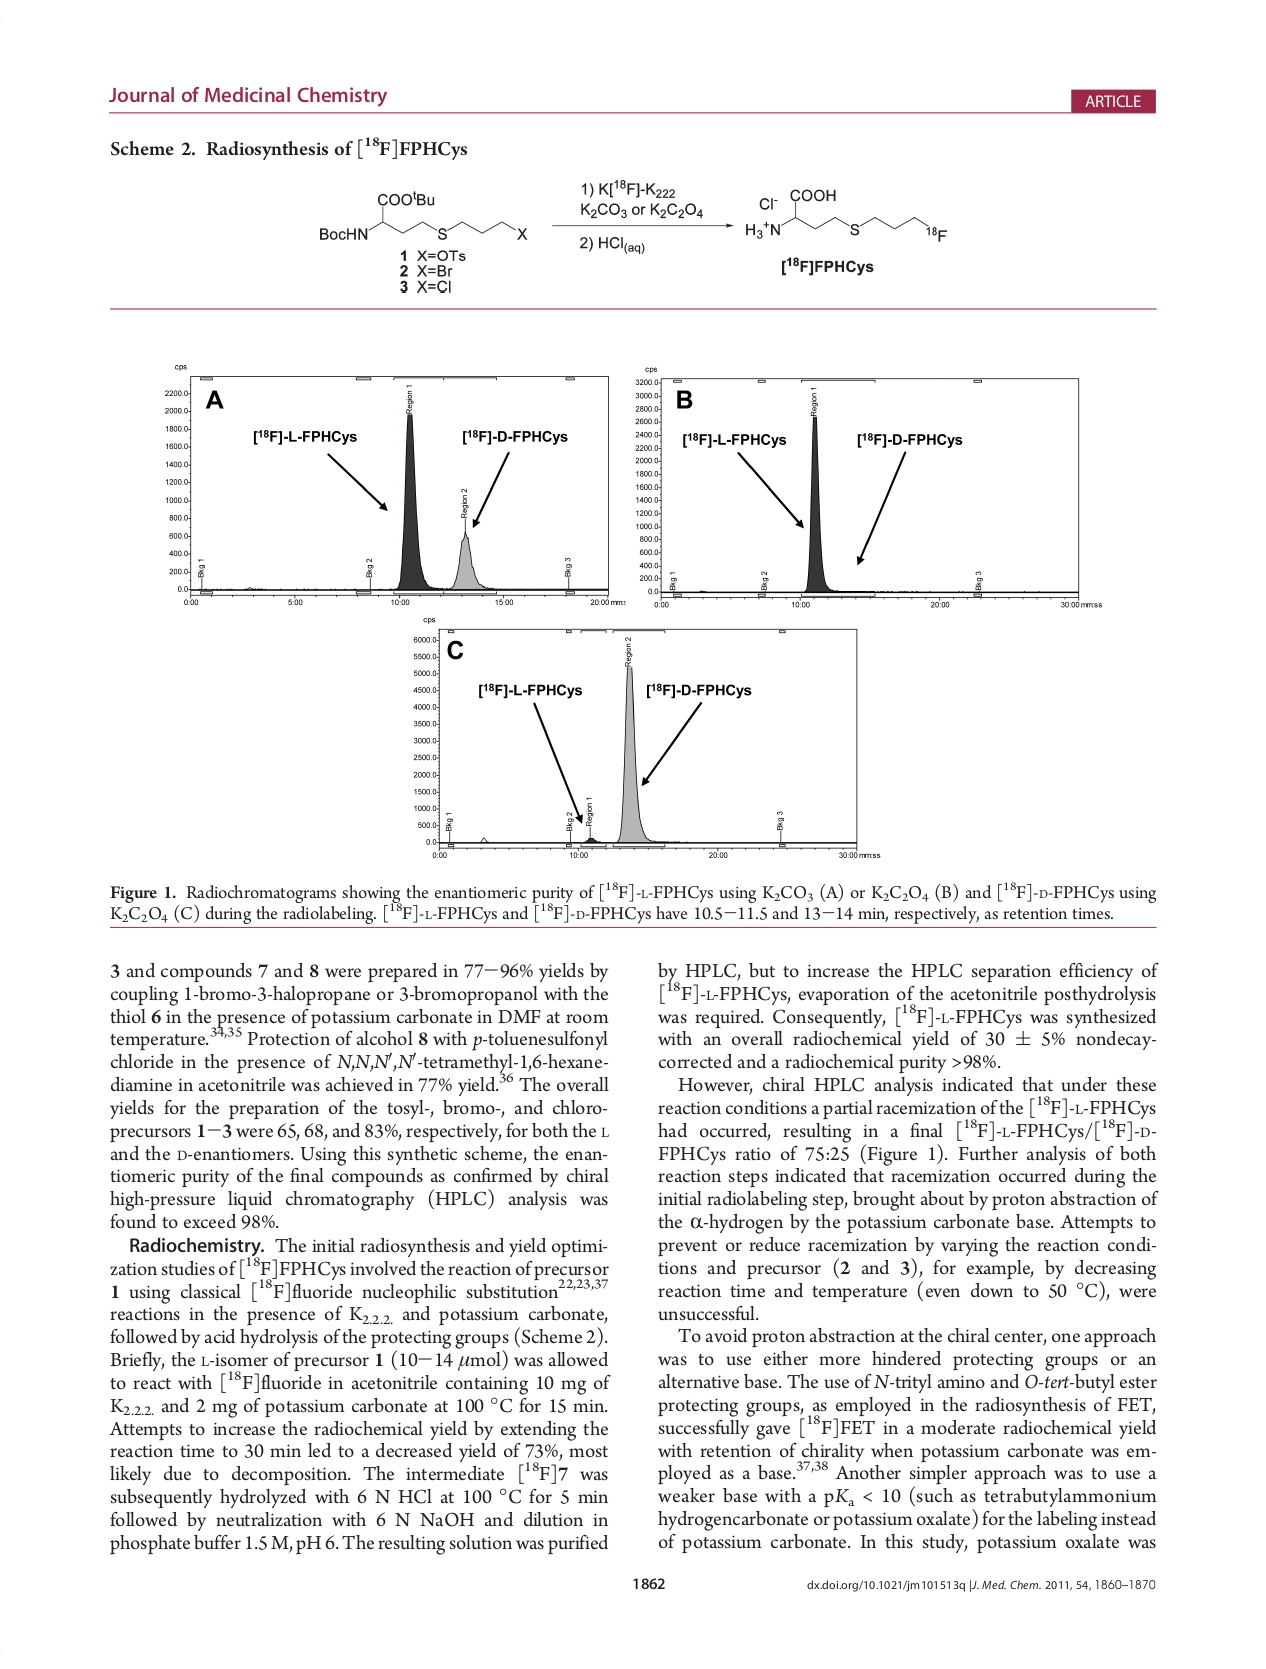exist_molecular: (309, 186, 537, 249), (743, 186, 949, 247)
